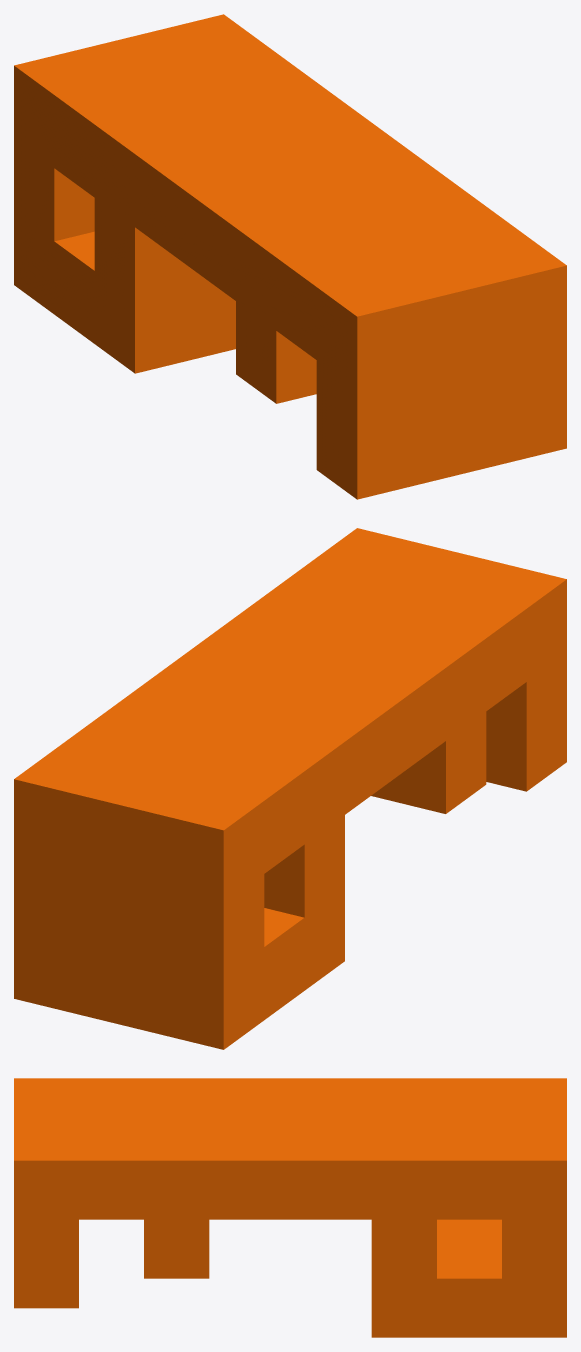
The model's file is KeyOrange.obj.
3 renders of one model, top to bottom at view 1: azimuth 30°, elevation 25°; view 2: azimuth 150°, elevation 25°; view 3: azimuth 270°, elevation 25°, orthographic. The views are drawn at different scales.
Bounding box in the file's own units: 0.6 × 0.6 × 1.7.
1 material, 1 textured.
